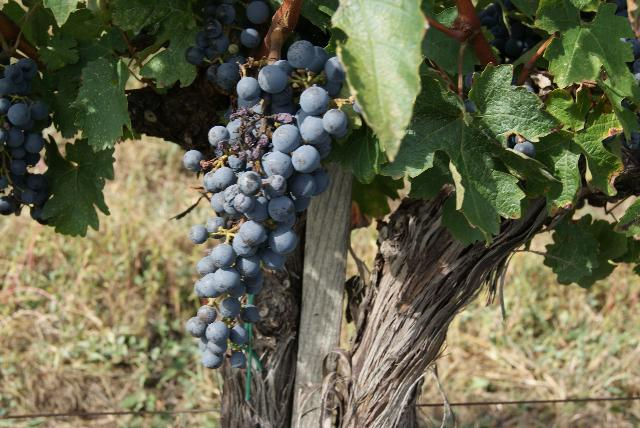grapes: (184, 40, 348, 369)
